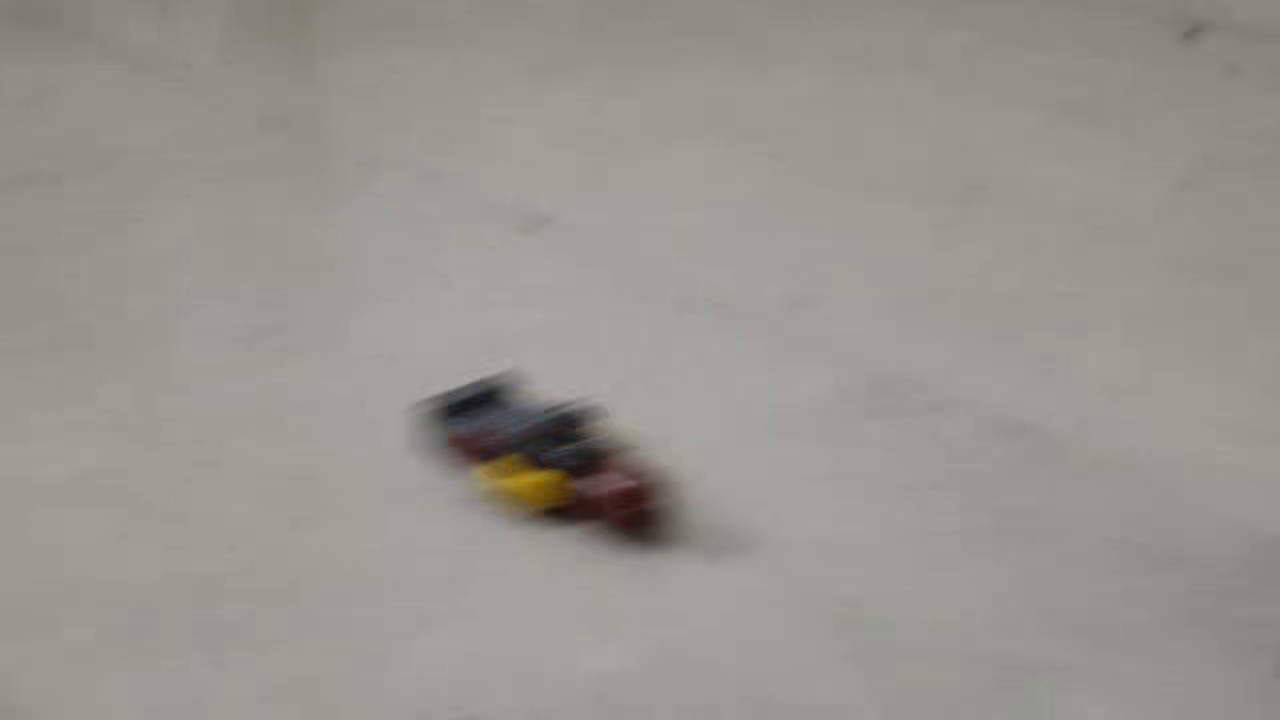people: (416, 364, 681, 553)
